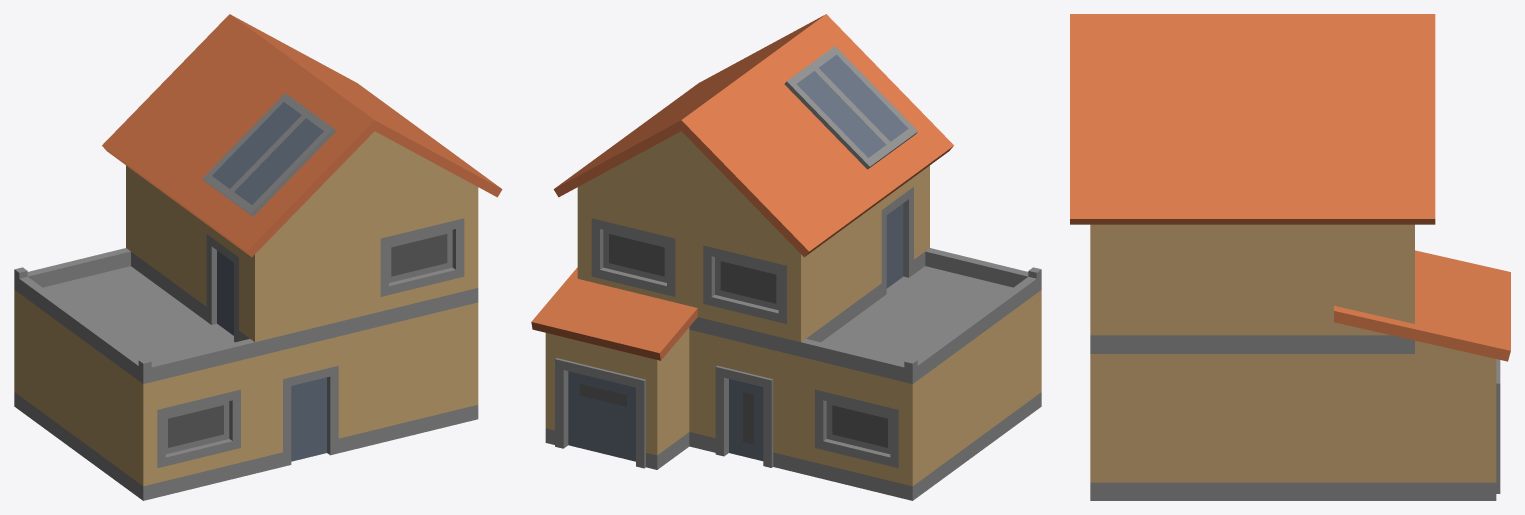
Rendered from SM_Suburb_House_010.fbx.
The picture shows the model from 3 angles, left to right: view 1: azimuth 30°, elevation 25°; view 2: azimuth 150°, elevation 25°; view 3: azimuth 270°, elevation 25°; orthographic projection. The views are drawn at different scales.
Parts seen in each view (by area): view 1: SM_Suburb_House_010; view 2: SM_Suburb_House_010; view 3: SM_Suburb_House_010.
Boxes of the visible parts, <box> form: SM_Suburb_House_010: <box>14,14,502,500</box>; SM_Suburb_House_010: <box>531,14,1041,500</box>; SM_Suburb_House_010: <box>1070,14,1510,500</box>.
Size of the model in its own units: 906 by 819 by 782.
